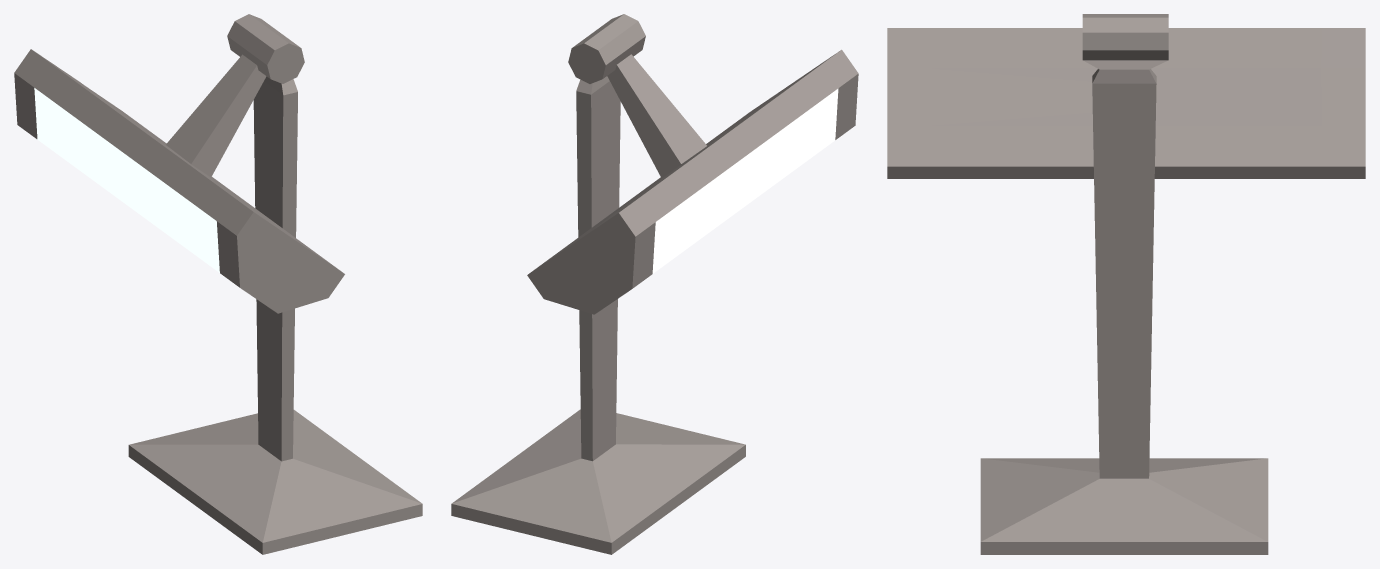
The model's file is Lamp.fbx.
3 views of the same model, side by side, from view 1: azimuth 30°, elevation 25°; view 2: azimuth 150°, elevation 25°; view 3: azimuth 270°, elevation 25° (orthographic). The views are drawn at different scales.
Visible parts, largest first — view 1: Cylinder; view 2: Cylinder; view 3: Cylinder.
Boxes of the visible parts, left/top/right/bottom form: Cylinder: left=14, top=14, right=422, bottom=554; Cylinder: left=451, top=14, right=858, bottom=554; Cylinder: left=887, top=14, right=1365, bottom=554.
Size of the model in its own units: 21.24 by 40.63 by 35.75.
